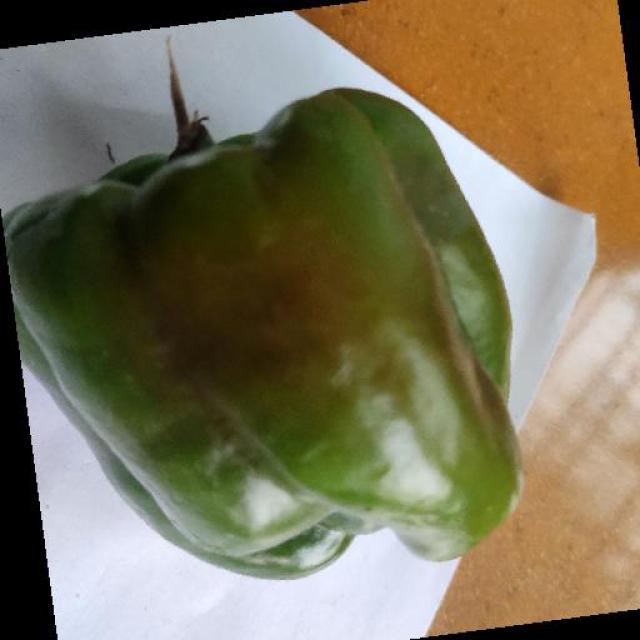Stale_Capsicum: (2, 81, 536, 561)
